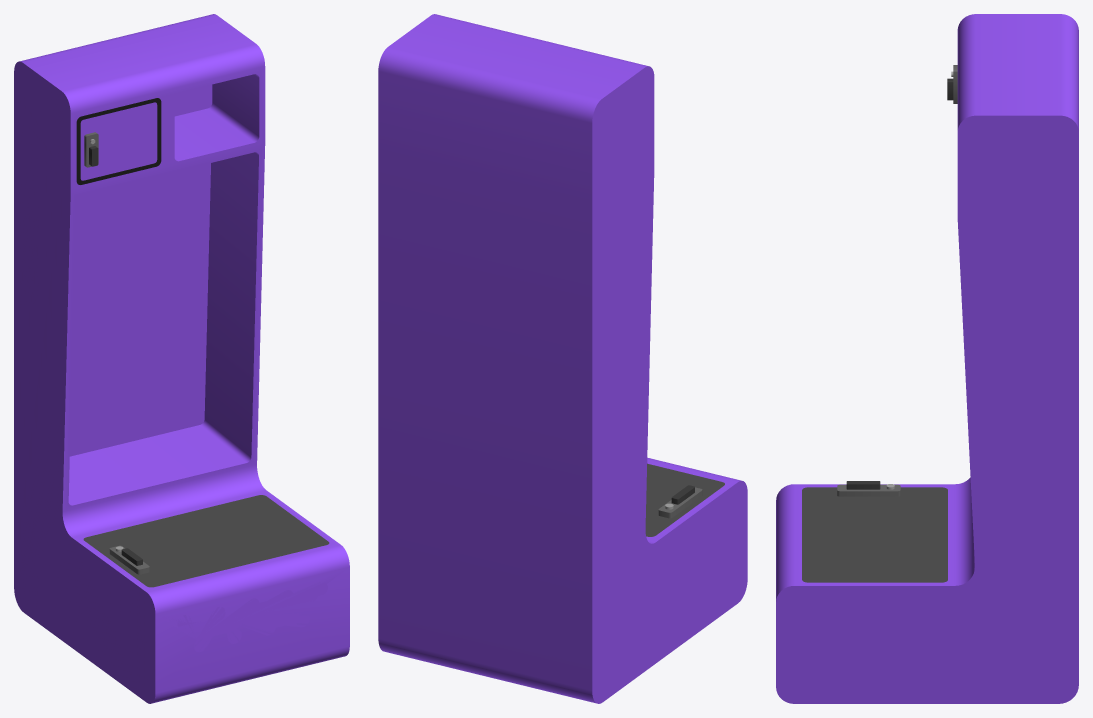
The model's file is Locker Big Violet.fbx.
3 views of the same model, side by side, from view 1: azimuth 30°, elevation 25°; view 2: azimuth 150°, elevation 25°; view 3: azimuth 270°, elevation 25° (orthographic). The views are drawn at different scales.
Visible parts, largest first — view 1: Locker Big Violet, Locker Big Violet Door A, Locker Big Violet Door B; view 2: Locker Big Violet, Locker Big Violet Door A; view 3: Locker Big Violet, Locker Big Violet Door A.
Boxes of the visible parts, x1,y1,x2,y2 form: Locker Big Violet: [14, 14, 349, 703]; Locker Big Violet Door A: [83, 495, 329, 587]; Locker Big Violet Door B: [76, 98, 161, 184]; Locker Big Violet: [378, 14, 747, 703]; Locker Big Violet Door A: [645, 463, 724, 536]; Locker Big Violet: [776, 14, 1078, 703]; Locker Big Violet Door A: [802, 481, 947, 582].
Size of the model in its own units: 106 by 286 by 134.
